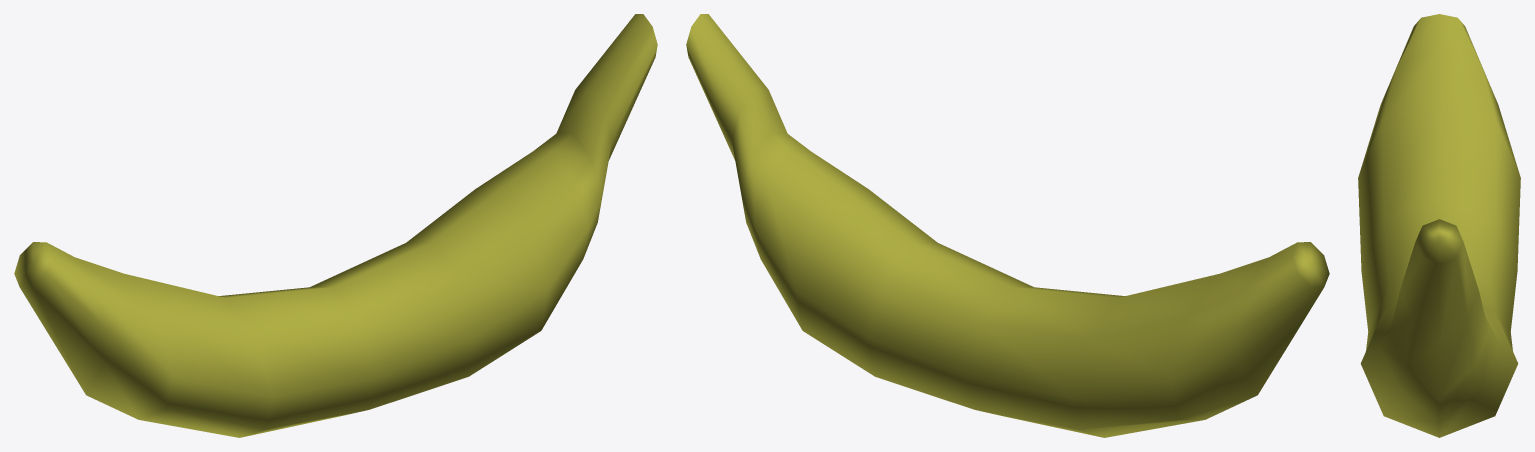
Rendered from banan.fbx.
The picture shows the model from 3 angles, left to right: view 1: azimuth 30°, elevation 25°; view 2: azimuth 150°, elevation 25°; view 3: azimuth 270°, elevation 25°; orthographic projection.
Parts seen in each view (by area): view 1: pCylinder1; view 2: pCylinder1; view 3: pCylinder1.
Part boxes in pixels (bbox=[...]): pCylinder1: bbox=[14, 14, 657, 437]; pCylinder1: bbox=[686, 14, 1329, 437]; pCylinder1: bbox=[1358, 14, 1520, 437].
Size of the model in its own units: 4.02 by 2.01 by 0.9174.
